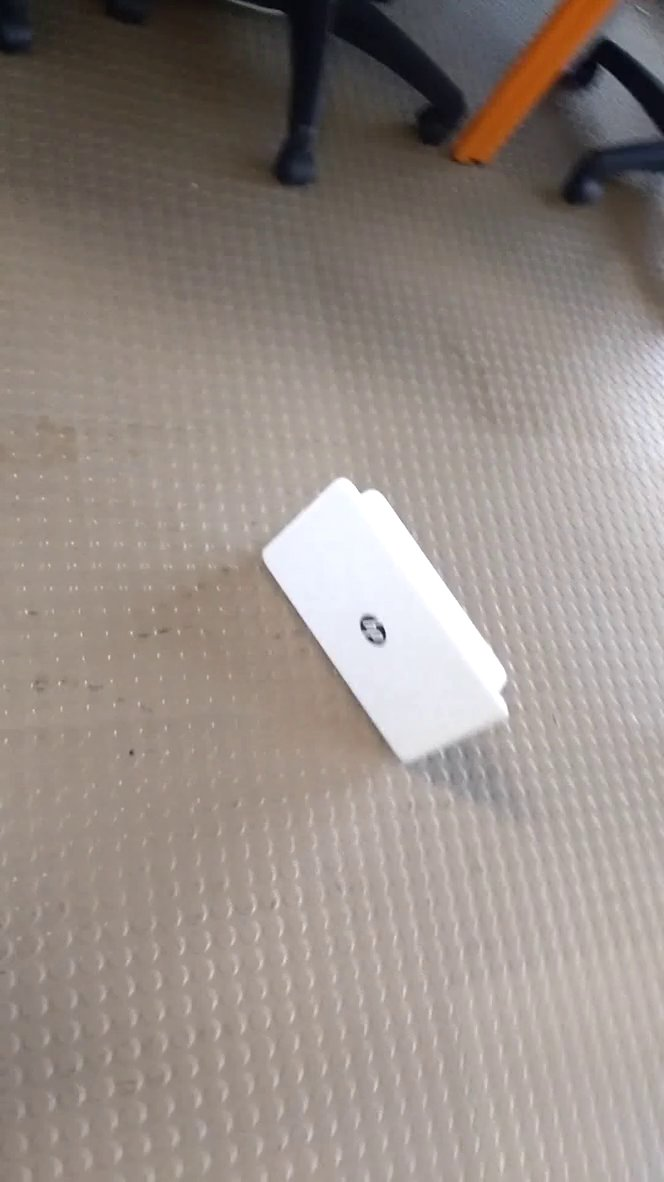laptop: (255, 466, 527, 772)
